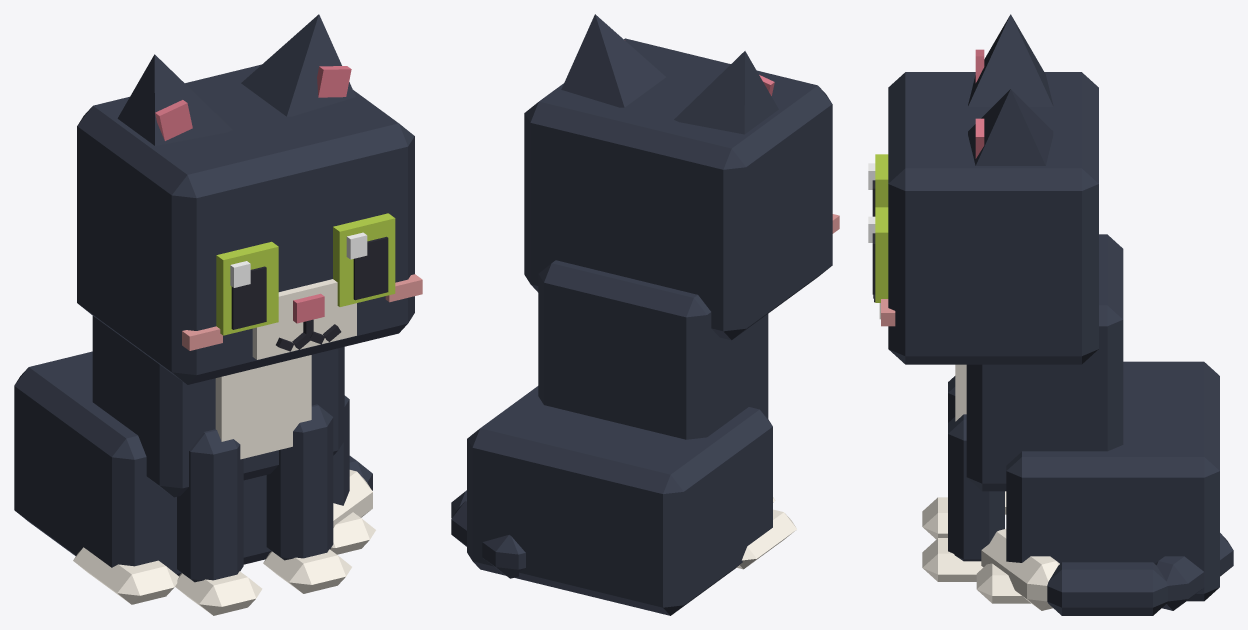
The model's file is CatCafe_Cat_Socks_Sit.glb.
3 renders of one model, left to right at view 1: azimuth 30°, elevation 25°; view 2: azimuth 150°, elevation 25°; view 3: azimuth 270°, elevation 25°, orthographic. The views are drawn at different scales.
Parts seen in each view (by area): view 1: CatCafe_Cat_Socks_Sit_Head, CatCafe_Cat_Socks_Sit_Body, CatCafe_Cat_Socks_Sit_LegF2, CatCafe_Cat_Socks_Sit_LegF1, CatCafe_Cat_Socks_Sit_EarL, CatCafe_Cat_Socks_Sit_EarR, CatCafe_Cat_Socks_Sit_Eye2, CatCafe_Cat_Socks_Sit_Eye1, CatCafe_Cat_Socks_Sit_Tail; view 2: CatCafe_Cat_Socks_Sit_Body, CatCafe_Cat_Socks_Sit_Head, CatCafe_Cat_Socks_Sit_EarL, CatCafe_Cat_Socks_Sit_EarR, CatCafe_Cat_Socks_Sit_Tail; view 3: CatCafe_Cat_Socks_Sit_Head, CatCafe_Cat_Socks_Sit_Body, CatCafe_Cat_Socks_Sit_Tail, CatCafe_Cat_Socks_Sit_LegF1, CatCafe_Cat_Socks_Sit_EarL, CatCafe_Cat_Socks_Sit_EarR, CatCafe_Cat_Socks_Sit_Eye1, CatCafe_Cat_Socks_Sit_LegF2, CatCafe_Cat_Socks_Sit_Eye2.
Boxes of the visible parts, x1,y1,x2,y2 form: CatCafe_Cat_Socks_Sit_Head: (77,64,422,384); CatCafe_Cat_Socks_Sit_Body: (14,316,375,604); CatCafe_Cat_Socks_Sit_LegF2: (175,429,262,615); CatCafe_Cat_Socks_Sit_LegF1: (263,404,351,593); CatCafe_Cat_Socks_Sit_EarL: (241,14,355,116); CatCafe_Cat_Socks_Sit_EarR: (117,54,232,145); CatCafe_Cat_Socks_Sit_Eye2: (216,241,278,335); CatCafe_Cat_Socks_Sit_Eye1: (333,213,395,306); CatCafe_Cat_Socks_Sit_Tail: (333,456,372,527); CatCafe_Cat_Socks_Sit_Body: (467,260,796,615); CatCafe_Cat_Socks_Sit_Head: (524,38,839,340); CatCafe_Cat_Socks_Sit_EarL: (561,14,665,107); CatCafe_Cat_Socks_Sit_EarR: (674,51,778,134); CatCafe_Cat_Socks_Sit_Tail: (451,490,525,578); CatCafe_Cat_Socks_Sit_Head: (873,72,1098,364); CatCafe_Cat_Socks_Sit_Body: (955,234,1219,603); CatCafe_Cat_Socks_Sit_Tail: (981,529,1233,615); CatCafe_Cat_Socks_Sit_LegF1: (922,414,1004,581); CatCafe_Cat_Socks_Sit_EarL: (968,89,1053,165); CatCafe_Cat_Socks_Sit_EarR: (968,14,1053,106); CatCafe_Cat_Socks_Sit_Eye1: (868,207,888,302); CatCafe_Cat_Socks_Sit_LegF2: (922,376,955,539); CatCafe_Cat_Socks_Sit_Eye2: (868,154,888,216).
Size of the model in its own units: 1.05 by 1.85 by 1.22.
1 material, 1 textured.
